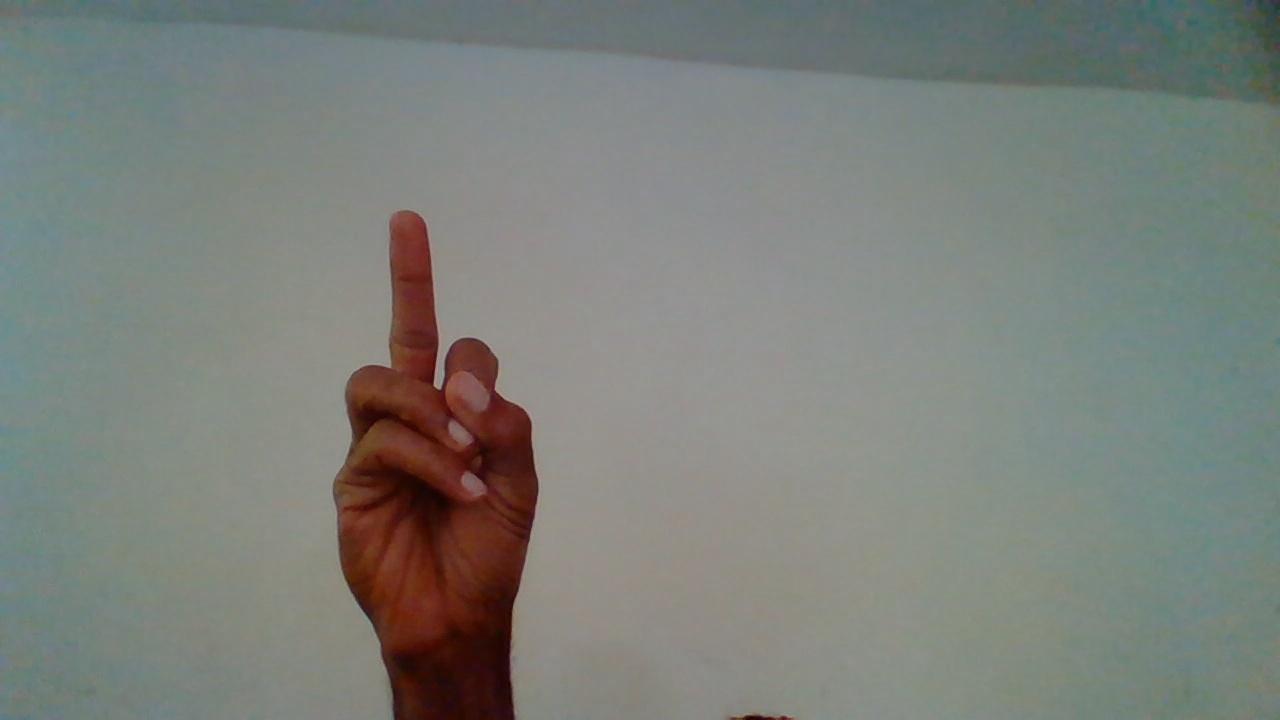he: (323, 215, 569, 700)
